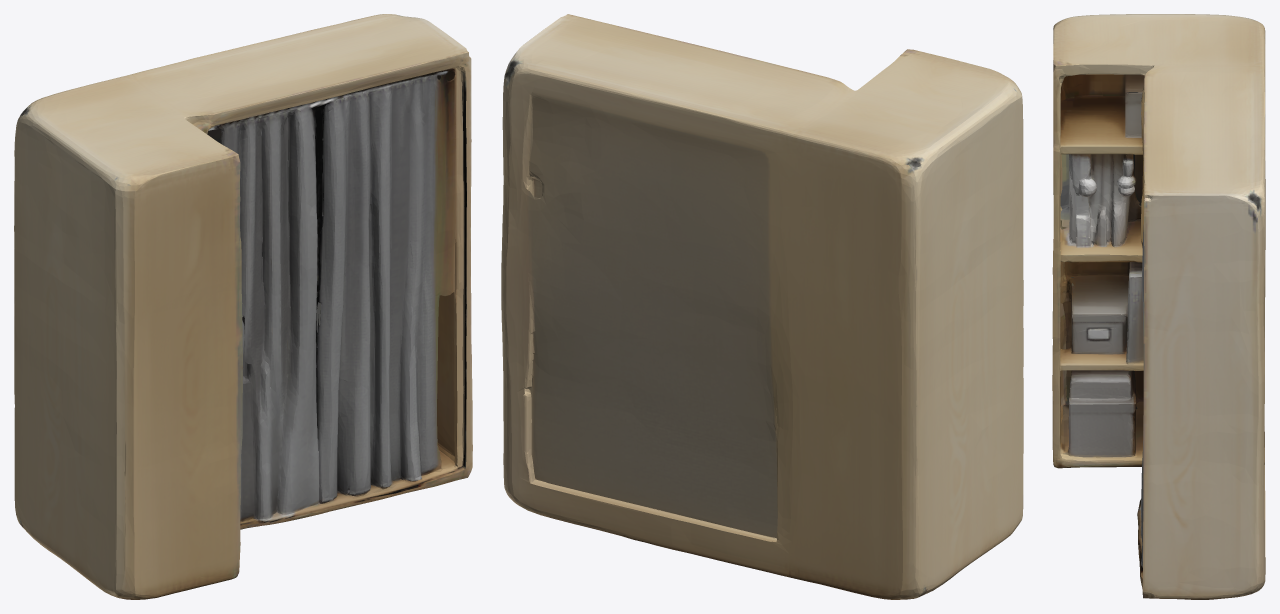
3 views of the same model, side by side, from view 1: azimuth 30°, elevation 25°; view 2: azimuth 150°, elevation 25°; view 3: azimuth 270°, elevation 25° (orthographic). The views are drawn at different scales.
Visible parts, largest first — view 1: world; view 2: world; view 3: world.
Part boxes in pixels (x1,y1,x2,y2): world: (14,14,472,599); world: (501,14,1023,599); world: (1052,14,1265,599).
Size of the model in its own units: 0.9826 by 0.9995 by 0.4759.
1 material, 1 textured.
